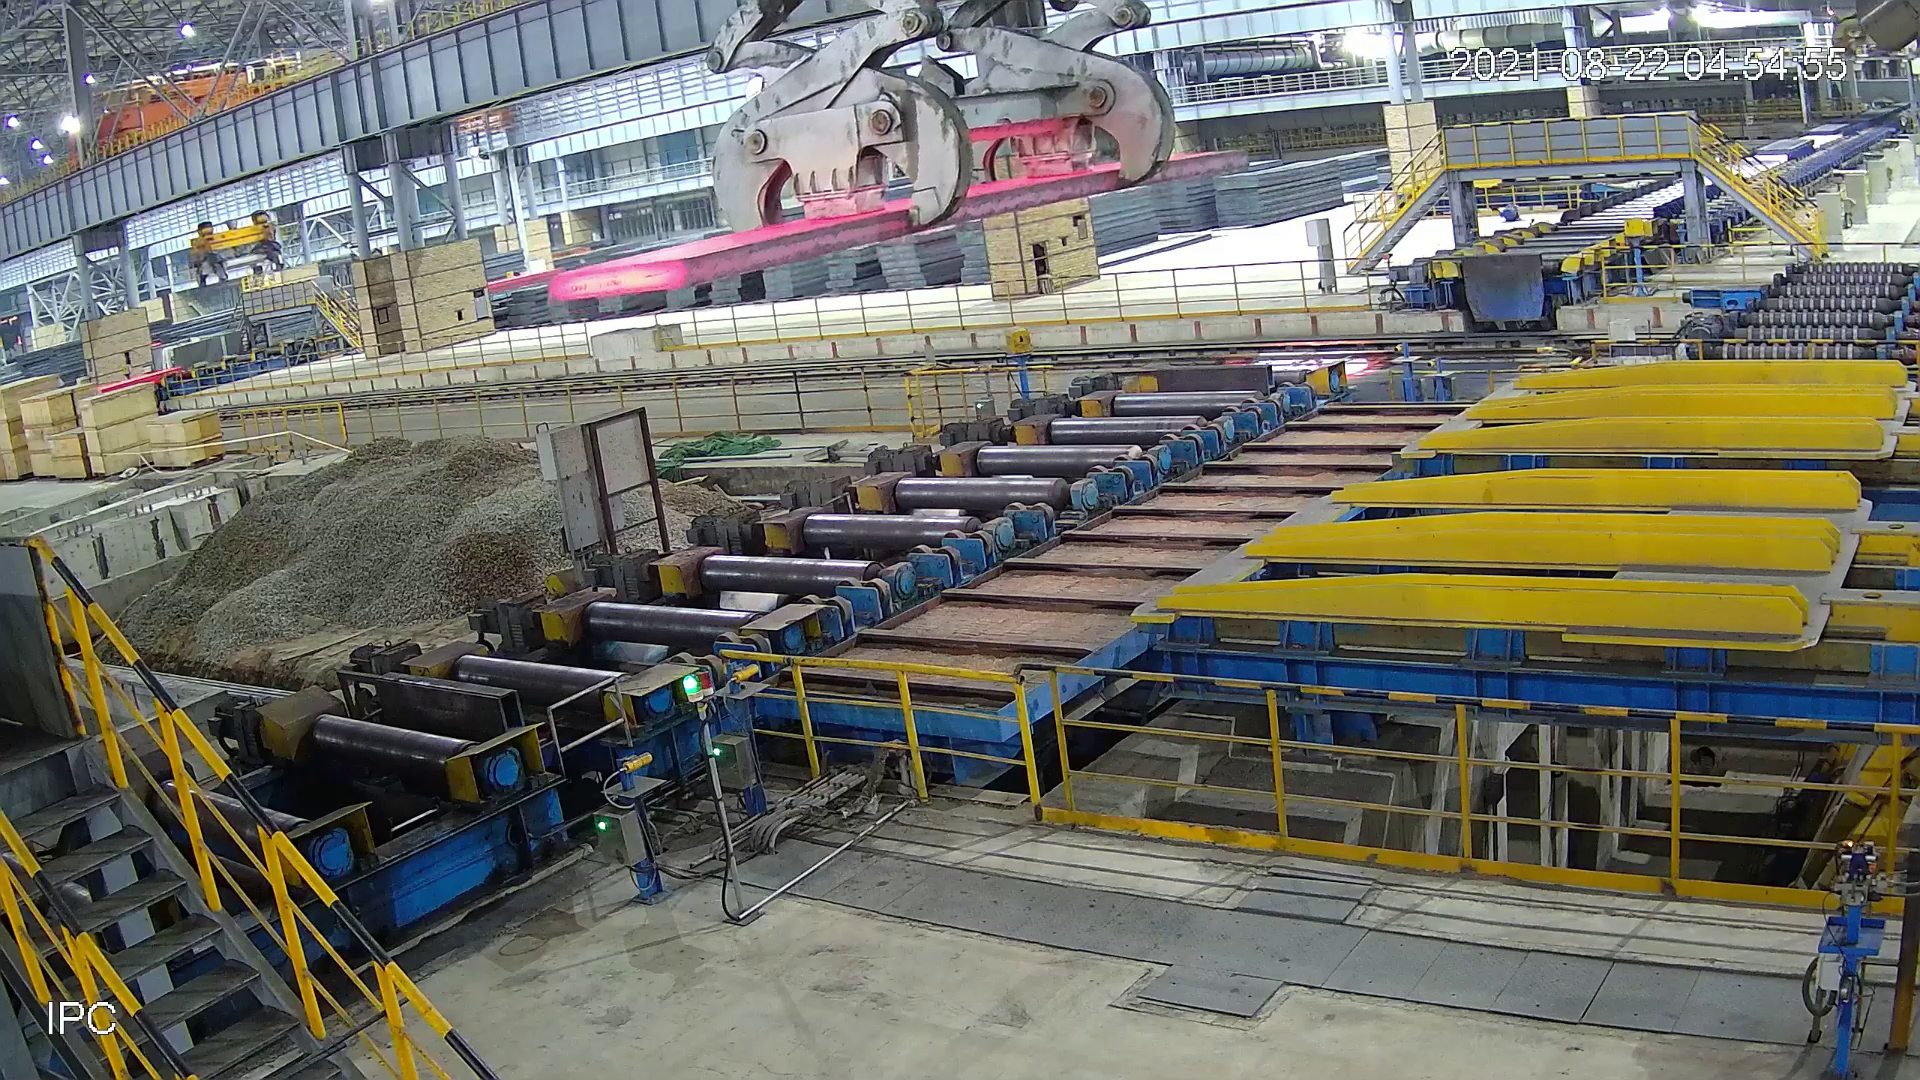craneandslab: (531, 1, 1245, 313)
